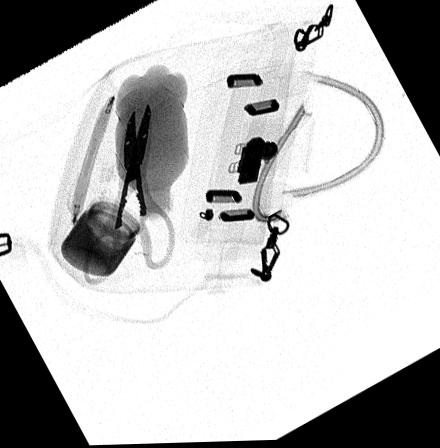Scissors: (78, 100, 179, 291)
